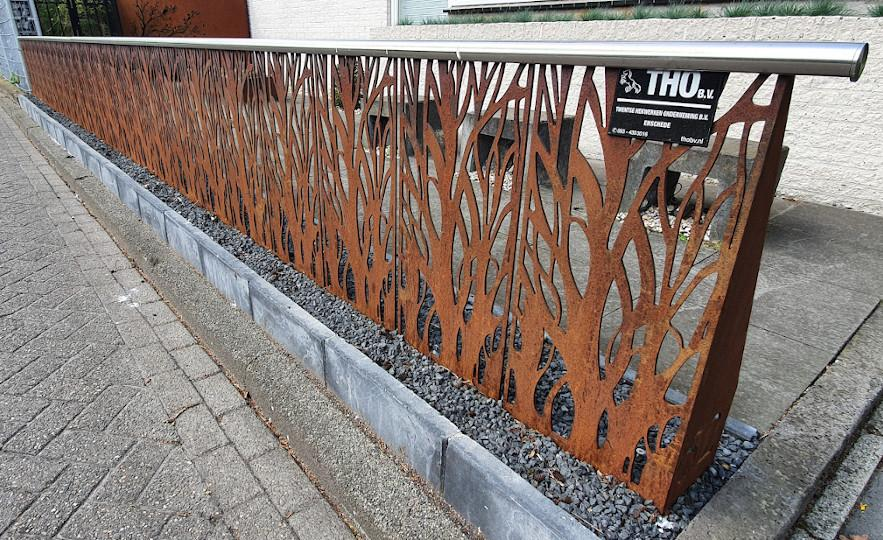obstacle: (0, 62, 883, 538)
